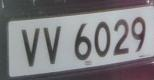0: (93, 16, 113, 63)
2: (113, 13, 132, 61)
6: (71, 19, 94, 65)
9: (130, 12, 148, 58)
V: (19, 25, 43, 70), (41, 23, 65, 67)
